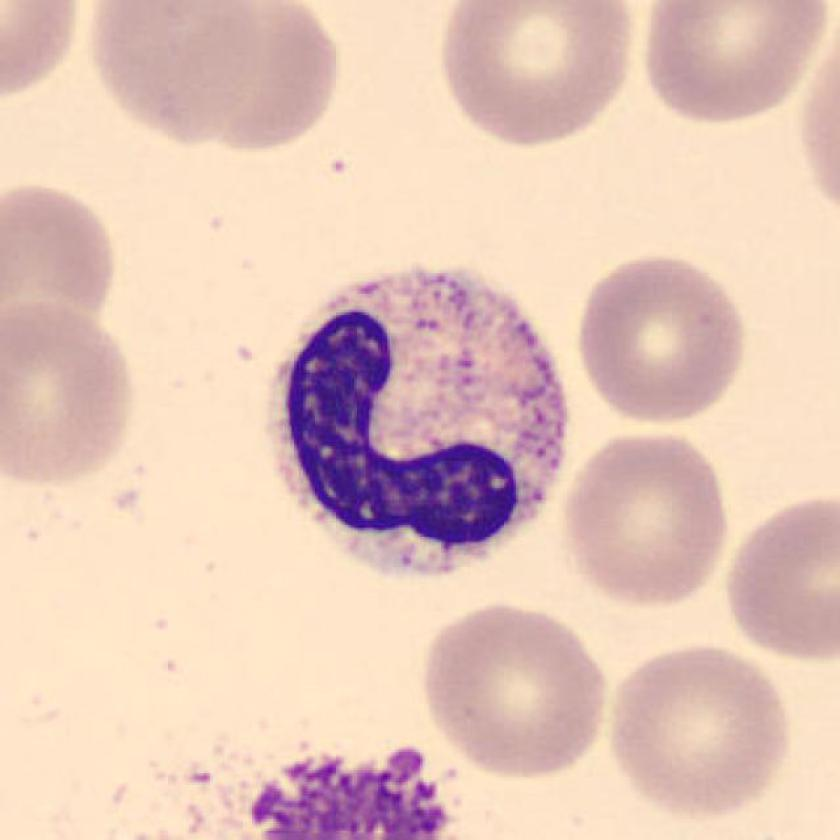neutrophil: (268, 270, 567, 575)
